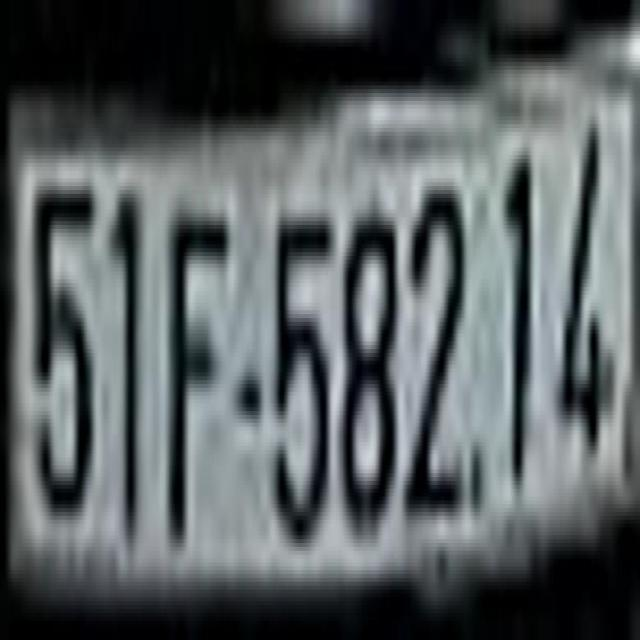1: (497, 144, 534, 492), (111, 174, 142, 550)
2: (403, 186, 466, 528)
4: (559, 108, 618, 466)
5: (30, 163, 94, 527), (272, 198, 334, 539)
8: (342, 190, 396, 535)
F: (167, 194, 228, 547)
